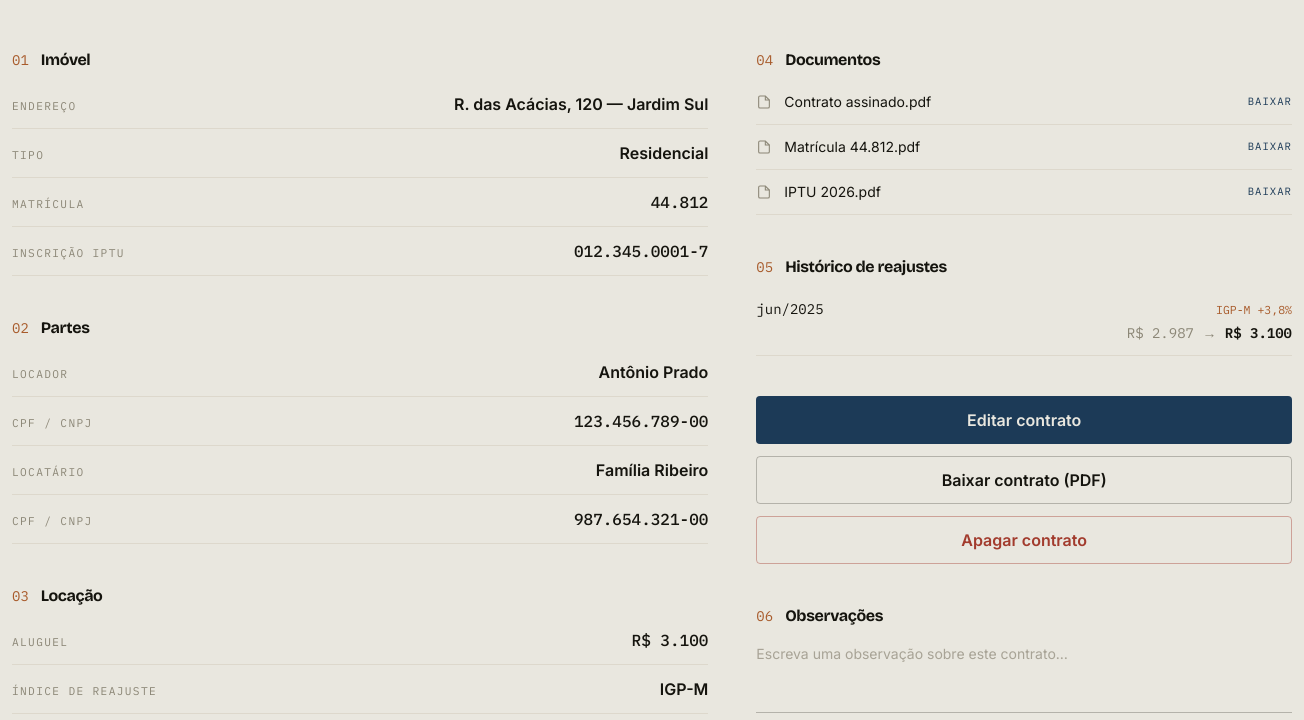
ContratoCorpo › permite editar e salvar um campo localmente
Click the button "Editar contrato" at (1024, 420), box [756, 396, 1292, 444]
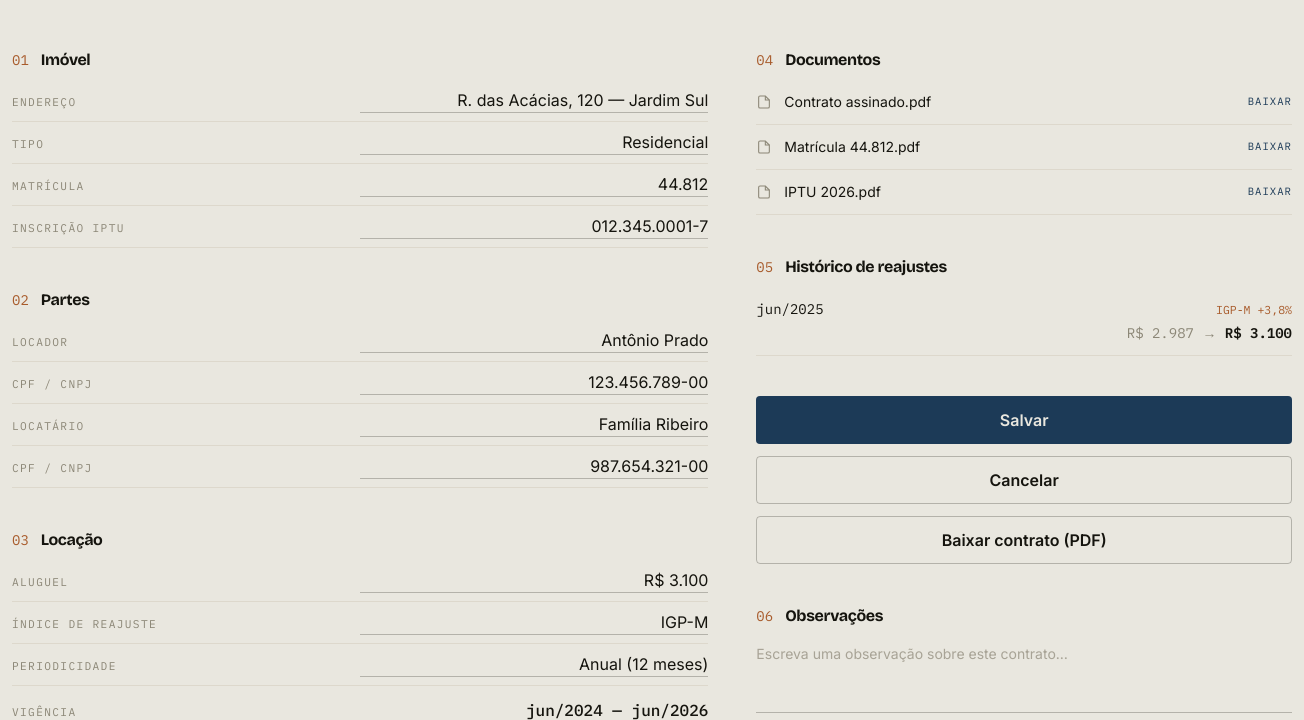
Replace the text in the field labelled "Aluguel" with "R$ 3.500" at (534, 580), box [360, 568, 708, 593]
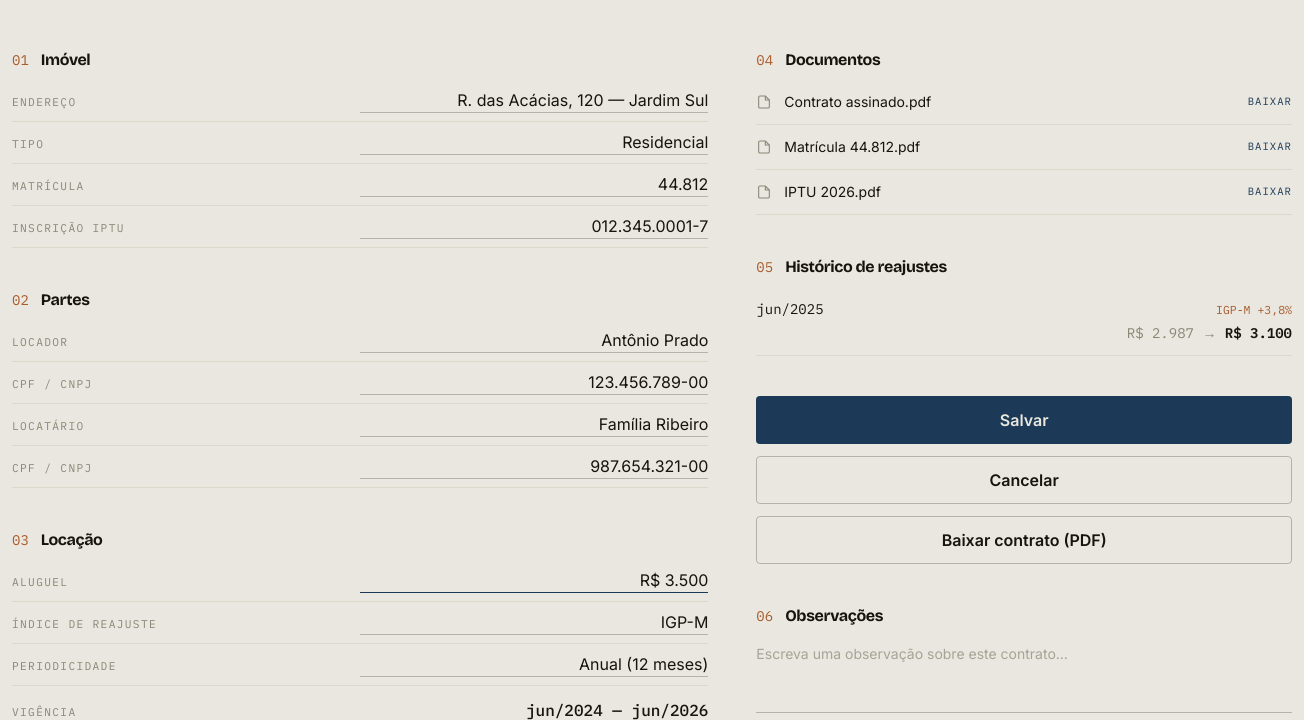
Click the button "Salvar" at (1024, 420), box [756, 396, 1292, 444]
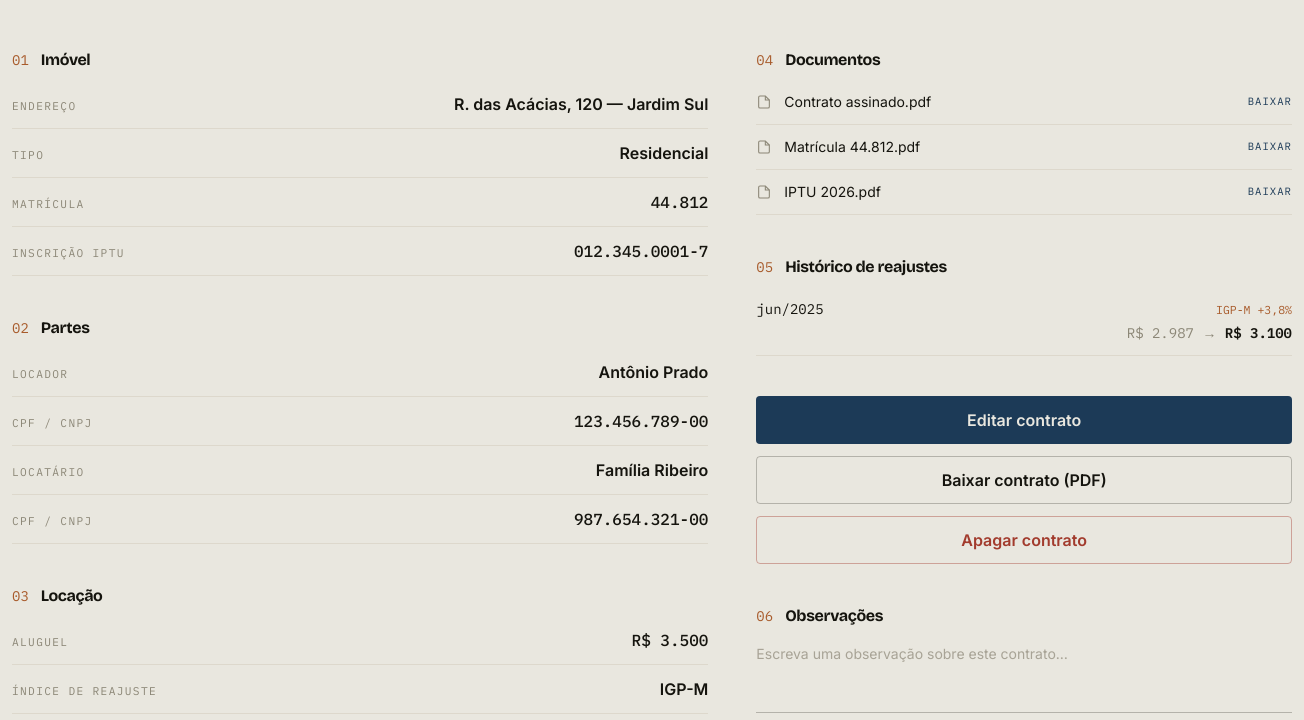
Check: the text "R$ 3.500" is shown, box [632, 628, 708, 652]
Check: the button "Editar contrato" is shown, box [756, 396, 1292, 444]
